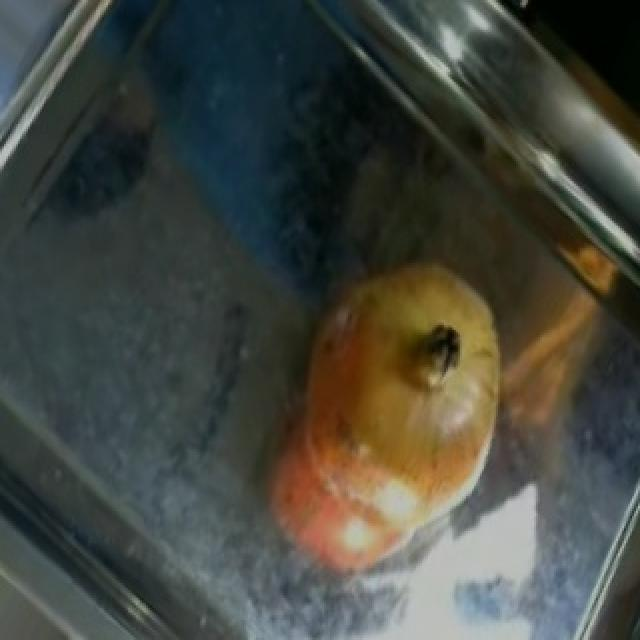fruit: (278, 228, 536, 494)
